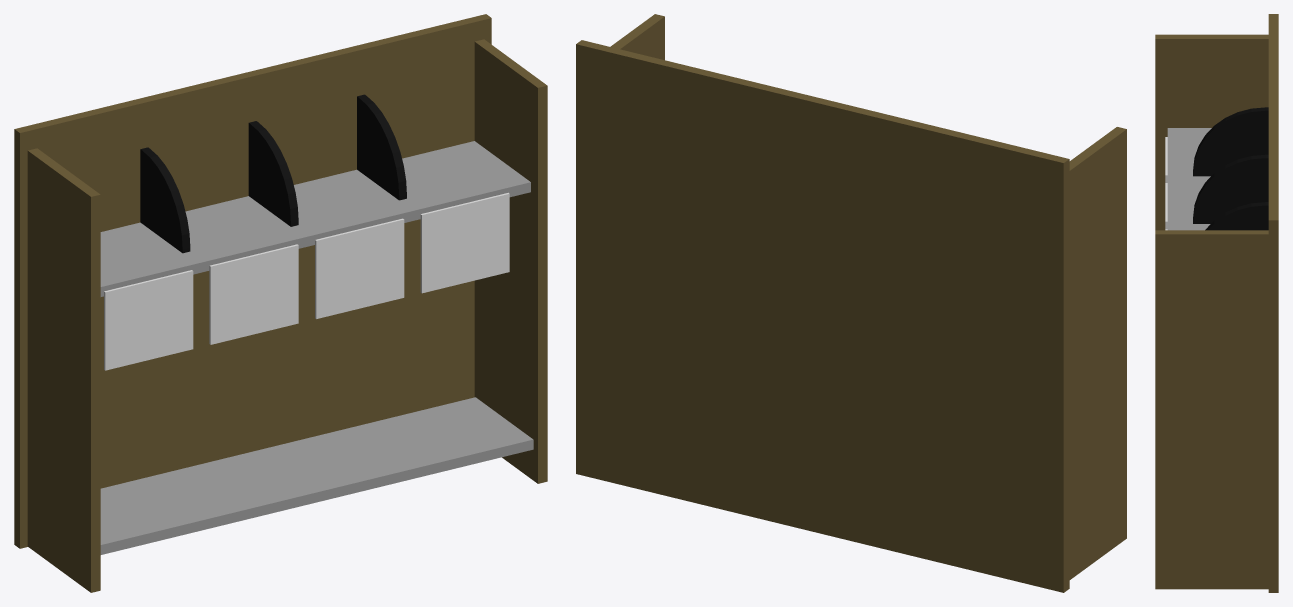
File: Shelf.fbx
The picture shows the model from 3 angles, left to right: view 1: azimuth 30°, elevation 25°; view 2: azimuth 150°, elevation 25°; view 3: azimuth 270°, elevation 25°; orthographic projection. The views are drawn at different scales.
Visible parts, largest first — view 1: Cube.003, Cube.001, Cube.005, Cube.004, Cube.002, Cube, Cube.006; view 2: Cube.003, Cube.001, Cube.002; view 3: Cube.002, Cube.001, Cube.006, Cube.003, Cube, Cube.005.
Part boxes in pixels (x1,y1,x2,y2): Cube.003: (14,14,491,548); Cube.001: (27,148,100,592); Cube.005: (104,192,509,370); Cube.004: (100,397,533,554); Cube.002: (474,39,547,483); Cube: (100,141,530,296); Cube.006: (140,94,406,253); Cube.003: (576,40,1069,592); Cube.001: (1069,127,1126,579); Cube.002: (610,14,664,60); Cube.002: (1155,230,1268,589); Cube.001: (1155,34,1268,230); Cube.006: (1193,107,1268,230); Cube.003: (1268,14,1278,592); Cube: (1167,128,1211,230); Cube.005: (1165,137,1167,230).
Bounding box in the file's own units: 941 × 792 × 238.
